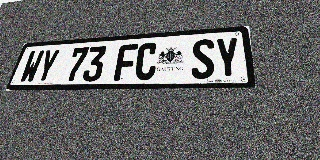3: (81, 46, 107, 82)
7: (63, 47, 89, 82)
C: (134, 42, 158, 80)
F: (113, 44, 138, 81)
S: (191, 39, 215, 79)
W: (18, 50, 45, 83)
Y: (215, 37, 241, 79), (34, 49, 61, 83)
